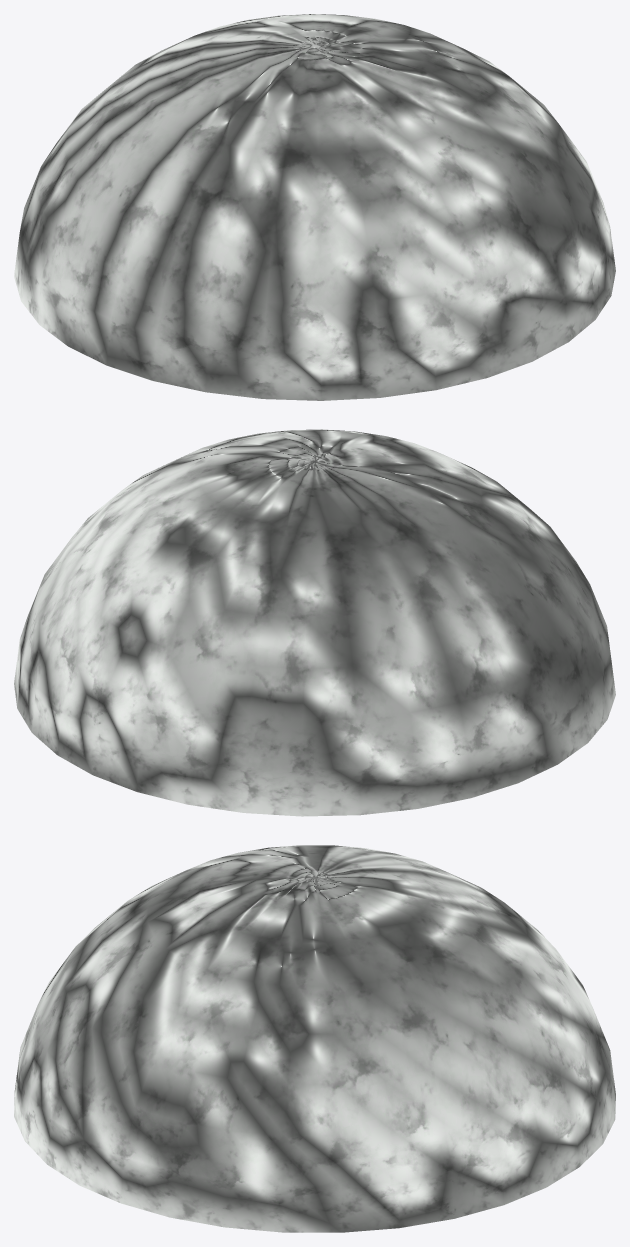
3 views of the same model, one above another, from view 1: azimuth 30°, elevation 25°; view 2: azimuth 150°, elevation 25°; view 3: azimuth 270°, elevation 25° (orthographic).
Parts seen in each view (by area): view 1: mesh0; view 2: mesh0; view 3: mesh0.
Boxes of the visible parts, x1,y1,x2,y2 form: mesh0: (14, 14, 615, 400); mesh0: (14, 429, 615, 816); mesh0: (14, 845, 615, 1232).
Bounding box in the file's own units: 3866 × 1617 × 3866.
2 materials, 2 textured.
